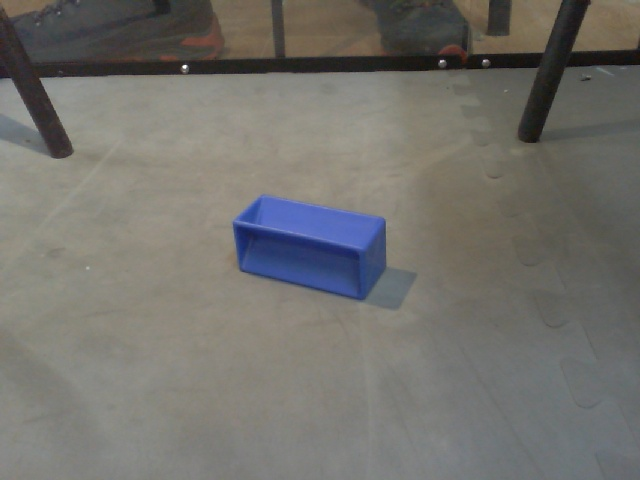BlueSample: (229, 191, 391, 305)
